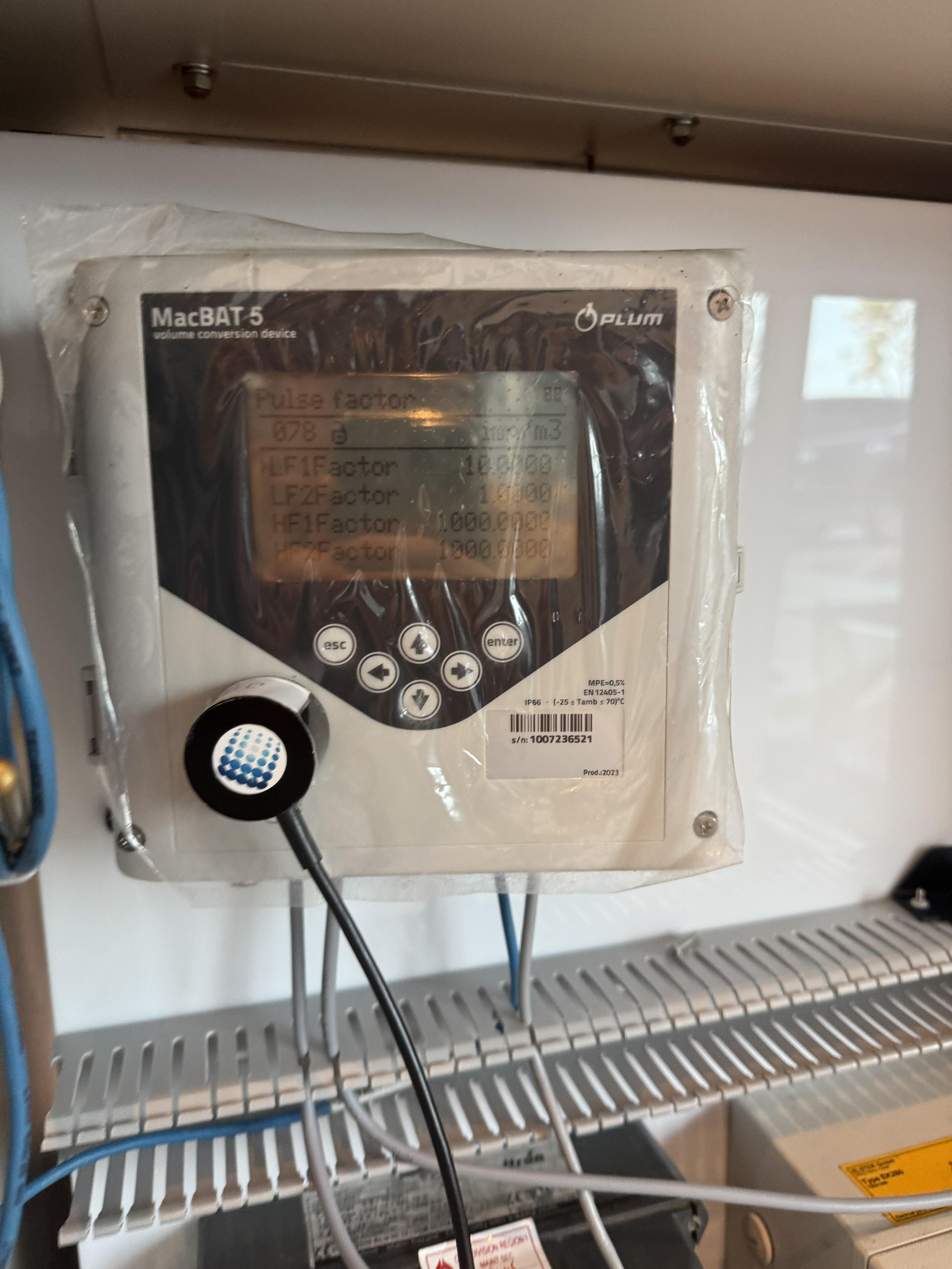digital_screen: (245, 373, 579, 576)
